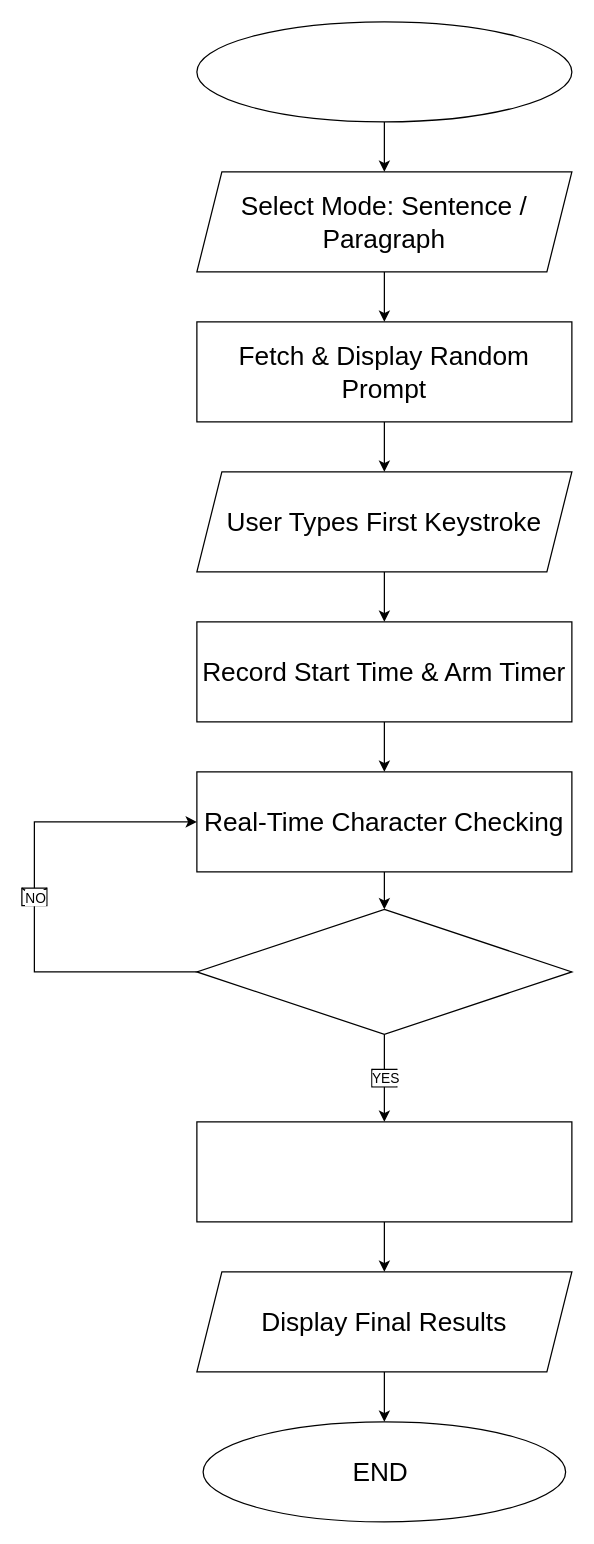
Some shapes in this 594 by 1544 pixel diagram are drawn without their labels. Each missing label, with the box of its shape:
Calculate WPM & Accuracy: (196, 1121, 572, 1222)
START: (196, 21, 572, 122)
User Submits Test?: (196, 908, 572, 1034)
